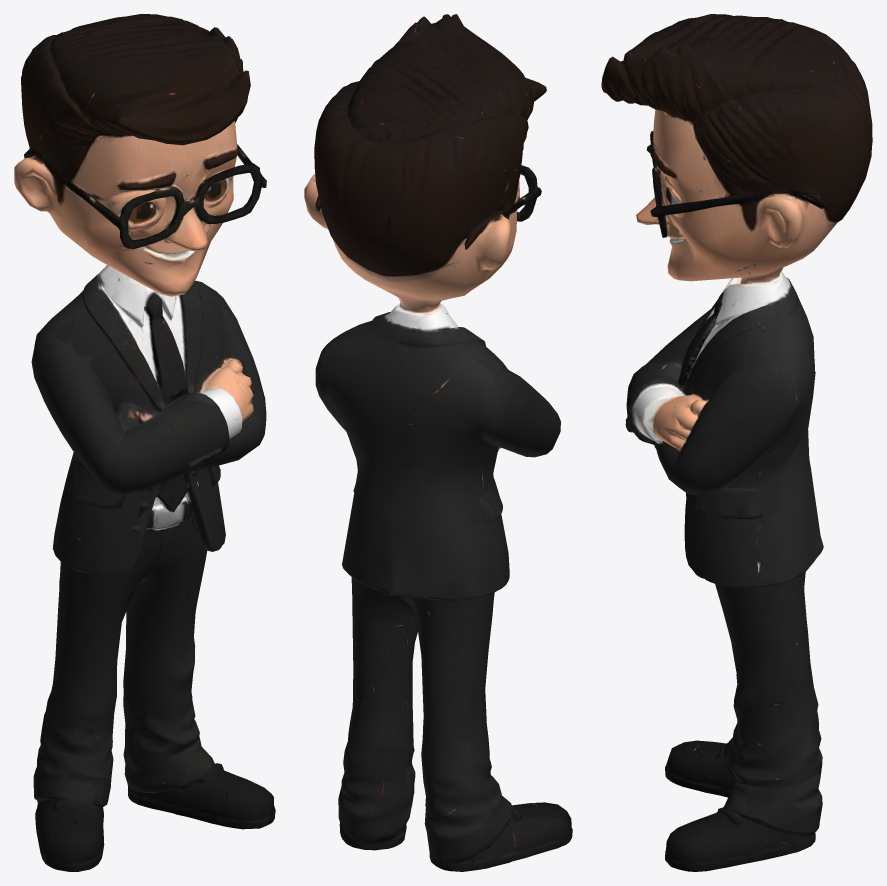
File: businessman.glb
3 renders of one model, left to right at view 1: azimuth 30°, elevation 25°; view 2: azimuth 150°, elevation 25°; view 3: azimuth 270°, elevation 25°, orthographic. The views are drawn at different scales.
Size of the model in its own units: 0.035 by 0.1199 by 0.0369.
1 material, 1 textured.
